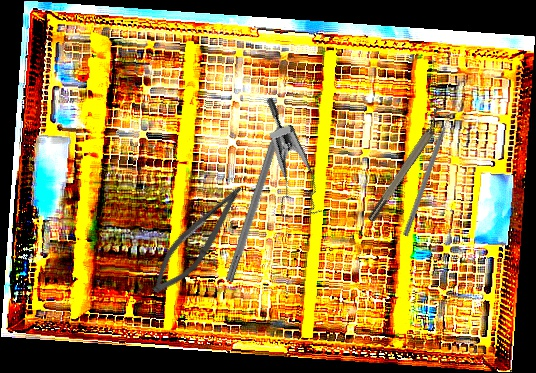Chopper: (402, 109, 461, 240)
Fixation Ring: (361, 104, 452, 224)
Hook Surgical: (224, 103, 293, 284)
Micro Scissor: (143, 174, 251, 304)
Speculum: (222, 95, 342, 232)
